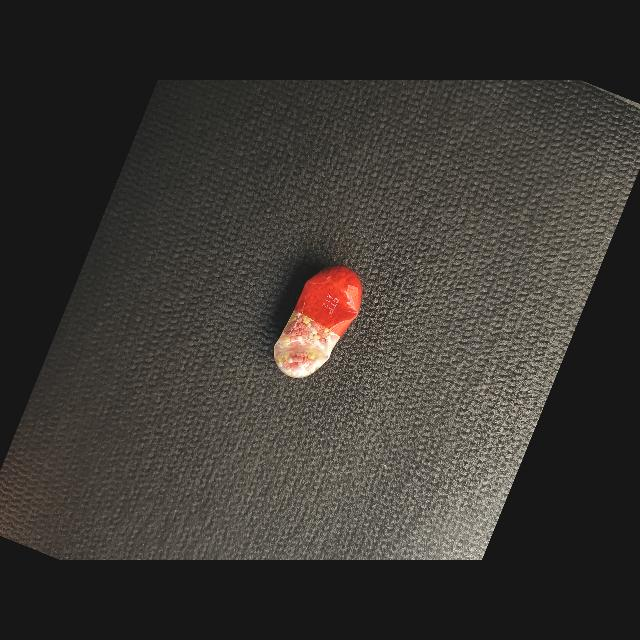Defective Capsule: (274, 265, 362, 378)
